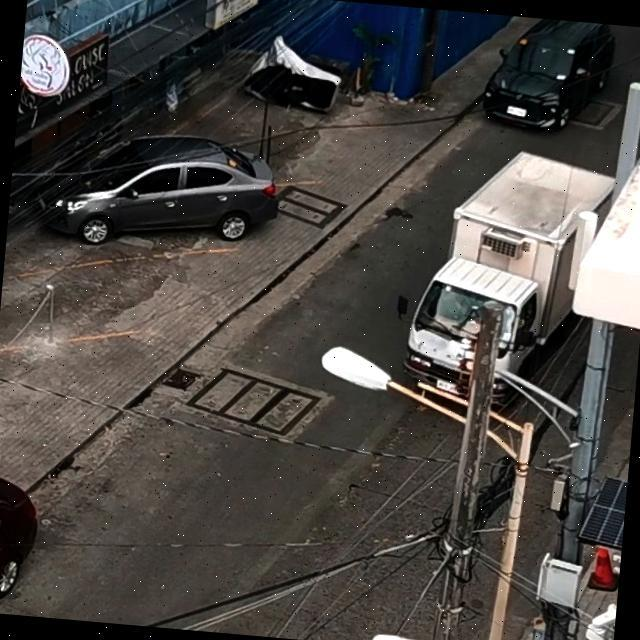Truck: (404, 140, 608, 405)
